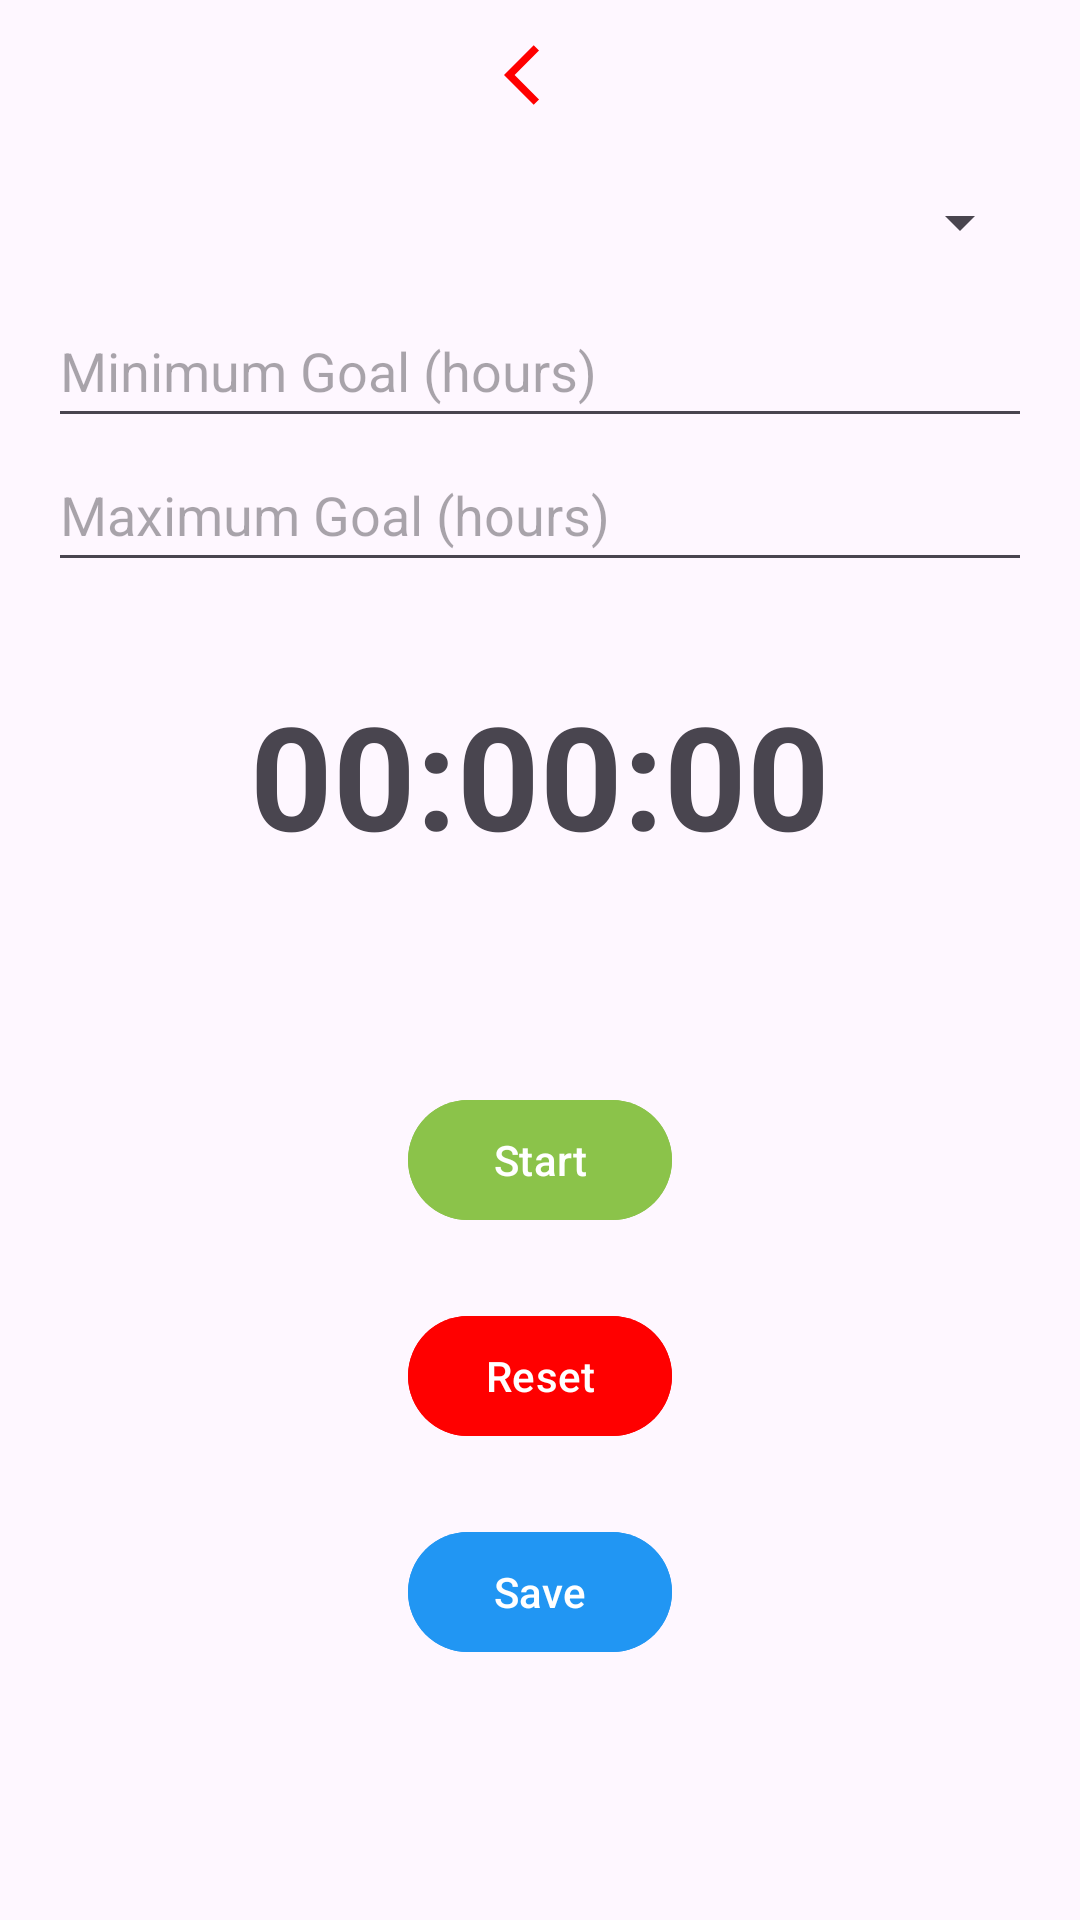

Where icons sit on this 1080w x 1920h app screen, as {"left": x1, "top": y1, "right": x2, "bottom": y2}:
Back: {"left": 504, "top": 45, "right": 539, "bottom": 105}
